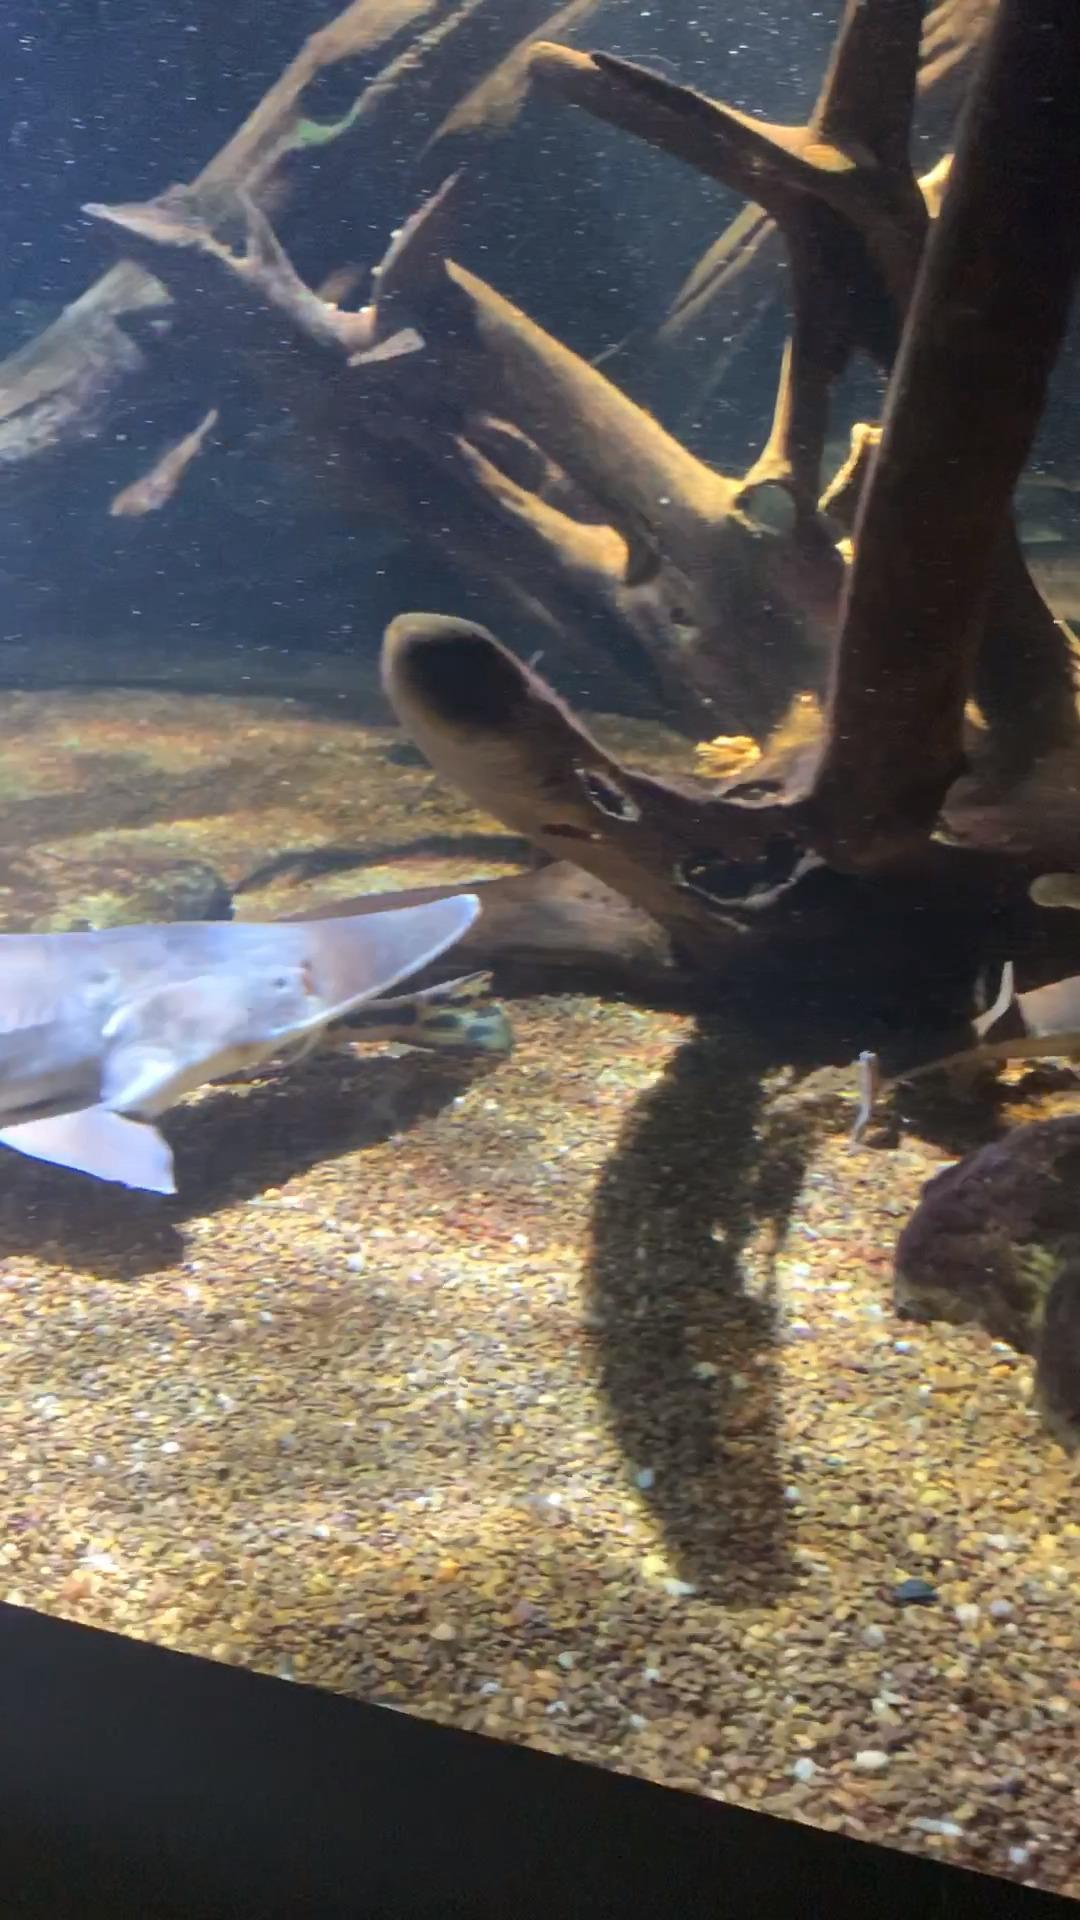shark: (0, 884, 485, 1204)
